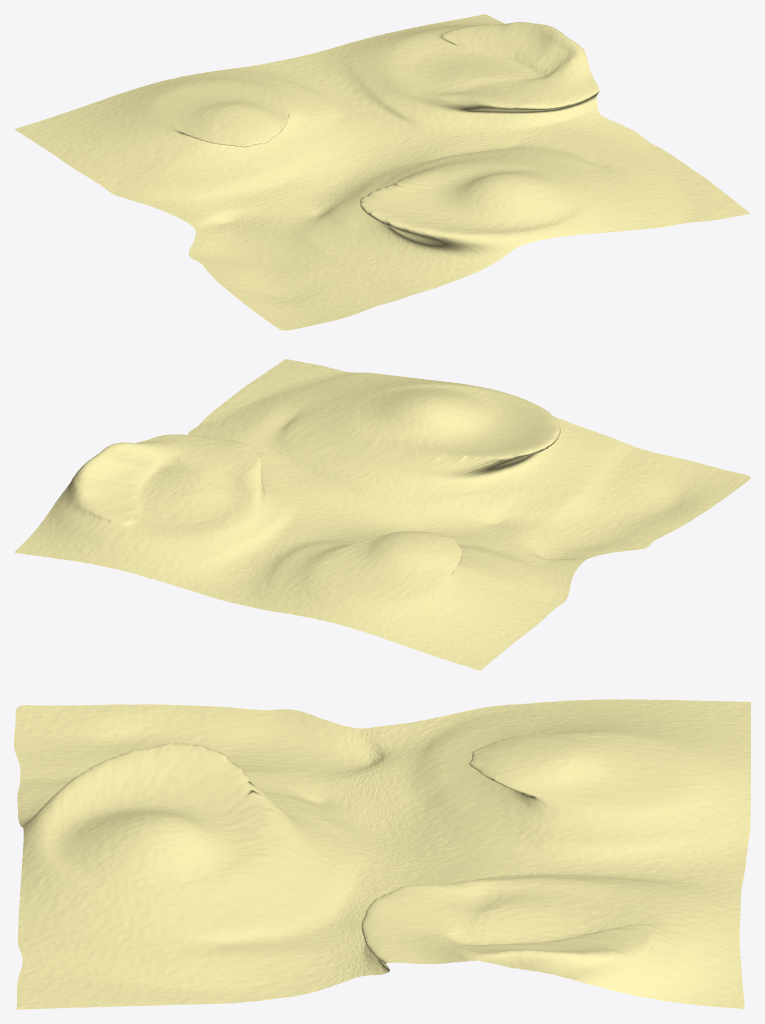
File: TestTerrain.fbx
The picture shows the model from 3 angles, top to bottom: view 1: azimuth 30°, elevation 25°; view 2: azimuth 150°, elevation 25°; view 3: azimuth 270°, elevation 25°; orthographic projection. The views are drawn at different scales.
Parts seen in each view (by area): view 1: Plane; view 2: Plane; view 3: Plane.
Boxes of the visible parts, x1,y1,x2,y2 form: Plane: (14,14,750,330); Plane: (14,359,750,670); Plane: (14,699,750,1009).
Size of the model in its own units: 35397 by 3633 by 34895.
